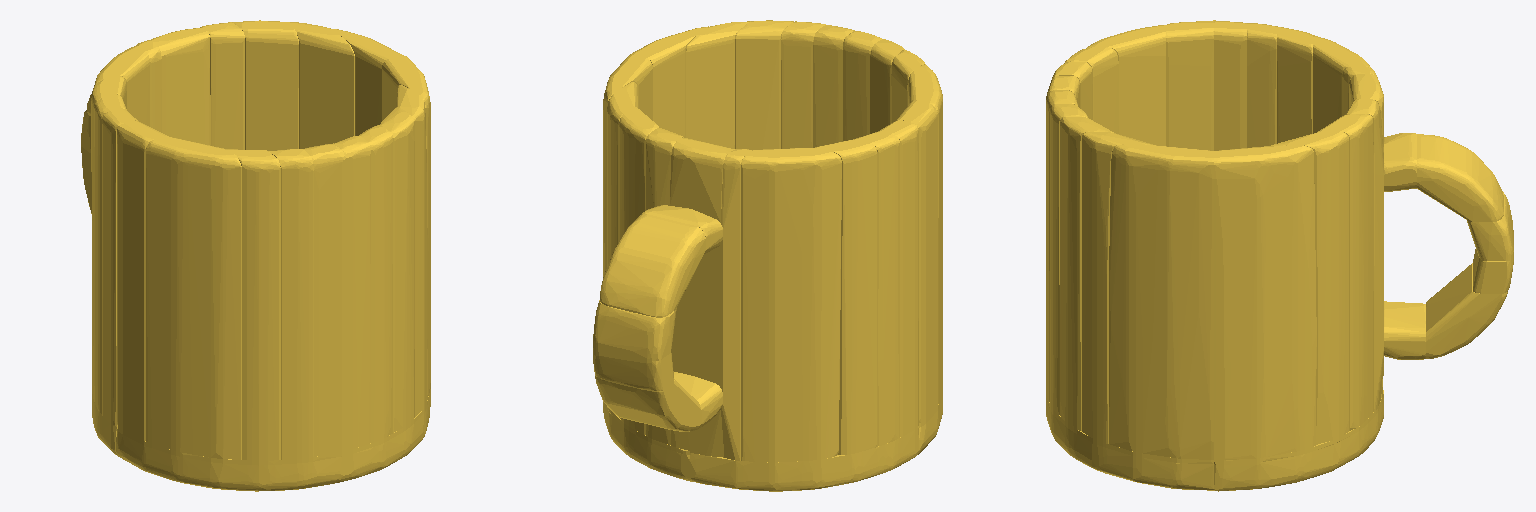
URDF robot description (129.urdf):
<?xml version="1.0" ?>
<robot name="129.urdf">
	<link name="baseLink">
		<inertial>
			<origin rpy="0 0 0" xyz="0 0 0"/>
				<mass value="0.1"/>
				<inertia ixx="6e-5" ixy="0" ixz="0" iyy="6e-5" iyz="0" izz="6e-5"/>
		</inertial>
		<visual>
			<origin rpy="0 0 0" xyz="0 0 0"/>
			<geometry>
				<mesh filename="16_decom_wt.obj" scale="1.03 1.03 1.12"/>
			</geometry>
			<material name="yellow">
				<color rgba="0.98 0.84 0.35 1"/>
			</material>
		</visual>
		<collision>
			<origin rpy="0 0 0" xyz="0 0 0"/>
			<geometry>
				<mesh filename="16_decom_wt.obj" scale="1.03 1.03 1.12"/>
			</geometry>
		</collision>
	</link>
</robot>

--- Render facts (derived) ---
Views: 3 orthographic renders of the robot side by side, from view 1: azimuth 30°, elevation 25°; view 2: azimuth 150°, elevation 25°; view 3: azimuth 270°, elevation 25°.
Model 129.urdf with 1 links and 0 joints (none), rooted at baseLink, posed every joint at zero.
Visible links, largest first — view 1: baseLink; view 2: baseLink; view 3: baseLink.
Link boxes in pixels (<box>): baseLink: <box>81,20,430,491</box>; baseLink: <box>593,20,942,491</box>; baseLink: <box>1046,20,1513,491</box>.
Bounding box of the posed robot: 0.1065 × 0.1475 × 0.1162 m (x, y, z).
Meshes: 1 distinct files referenced, 1 mesh visuals loaded (1 OBJ).